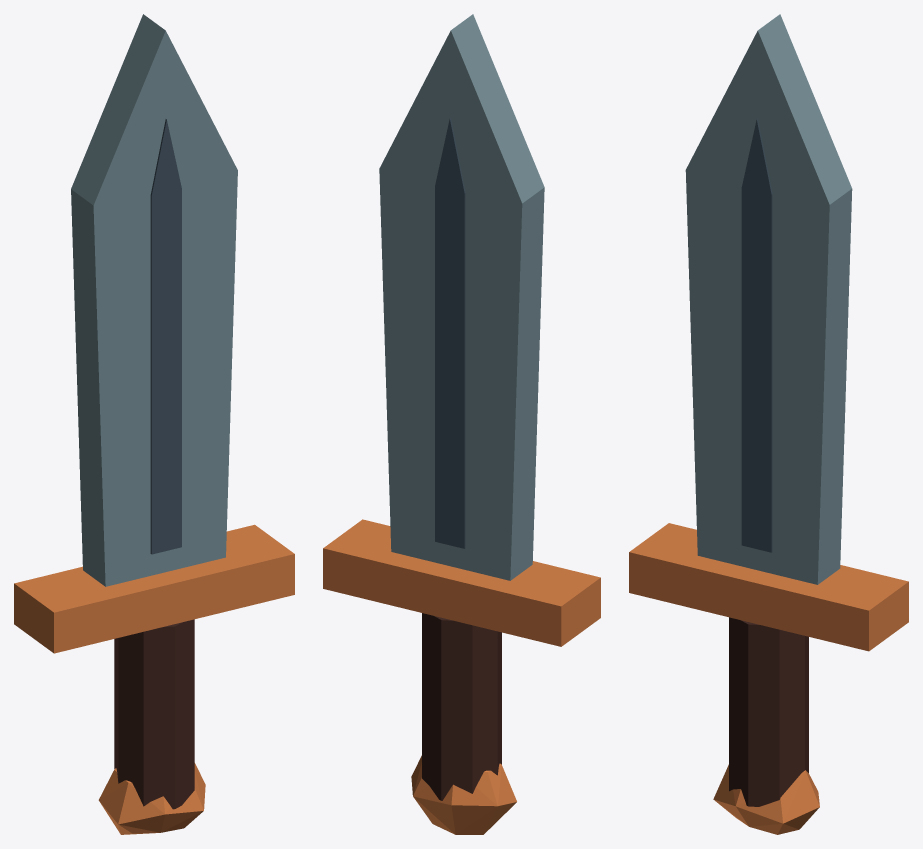
Rendered from Stone_Sword.gltf.
3 views of the same model, side by side, from view 1: azimuth 30°, elevation 25°; view 2: azimuth 150°, elevation 25°; view 3: azimuth 330°, elevation 25° (orthographic).
Parts seen in each view (by area): view 1: Blade_3, Guard_2, Grip_0, BladeInset_4, Pommel_1; view 2: Blade_3, Guard_2, Grip_0, BladeInset_4, Pommel_1; view 3: Blade_3, Guard_2, Grip_0, BladeInset_4, Pommel_1.
Boxes of the visible parts, x1=… form: Blade_3: x1=71, y1=14, x2=237, y2=586; Guard_2: x1=14, y1=524, x2=294, y2=653; Grip_0: x1=114, y1=619, x2=194, y2=809; BladeInset_4: x1=150, y1=119, x2=181, y2=554; Pommel_1: x1=98, y1=763, x2=205, y2=834; Blade_3: x1=379, y1=14, x2=544, y2=580; Guard_2: x1=323, y1=519, x2=600, y2=646; Grip_0: x1=422, y1=613, x2=501, y2=800; BladeInset_4: x1=435, y1=118, x2=465, y2=548; Pommel_1: x1=411, y1=755, x2=516, y2=834; Blade_3: x1=685, y1=14, x2=852, y2=584; Guard_2: x1=629, y1=523, x2=908, y2=651; Grip_0: x1=729, y1=617, x2=808, y2=806; BladeInset_4: x1=741, y1=118, x2=772, y2=552; Pommel_1: x1=713, y1=764, x2=819, y2=834.
Bounding box in the file's own units: 0.8 × 2.57 × 0.2535.
